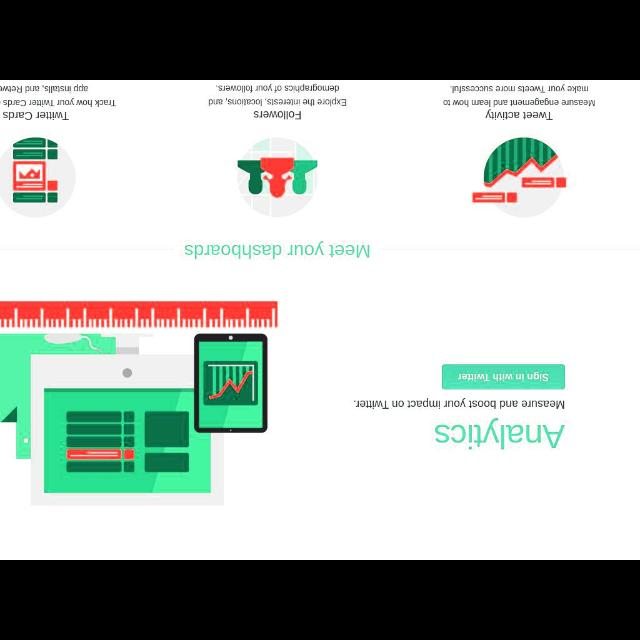image: (1, 294, 287, 518), (466, 134, 570, 220), (234, 134, 322, 222), (1, 134, 81, 220)
text: (432, 416, 568, 450), (184, 239, 372, 259), (205, 82, 348, 108), (442, 84, 596, 106), (1, 82, 117, 108), (352, 398, 566, 410), (457, 370, 549, 382), (482, 108, 554, 122), (0, 108, 70, 122), (253, 108, 303, 122)
textbutton: (440, 363, 566, 391)
